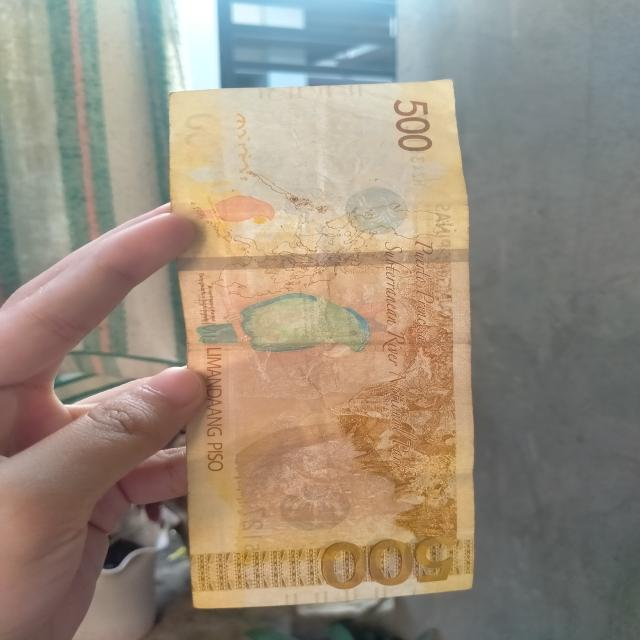security_thread: (168, 245, 468, 272)
see_through_mark: (216, 103, 263, 190)
